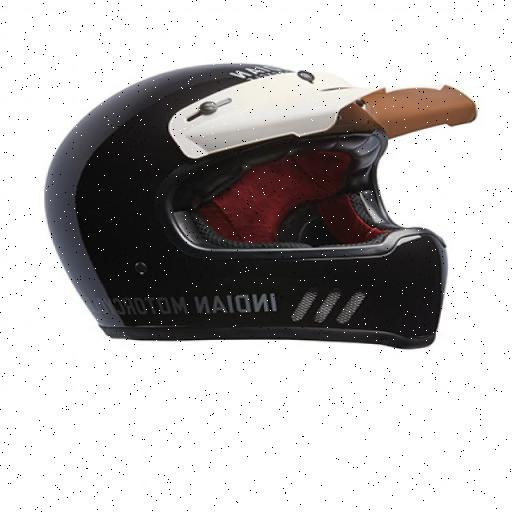Helmet: (54, 30, 466, 368)
